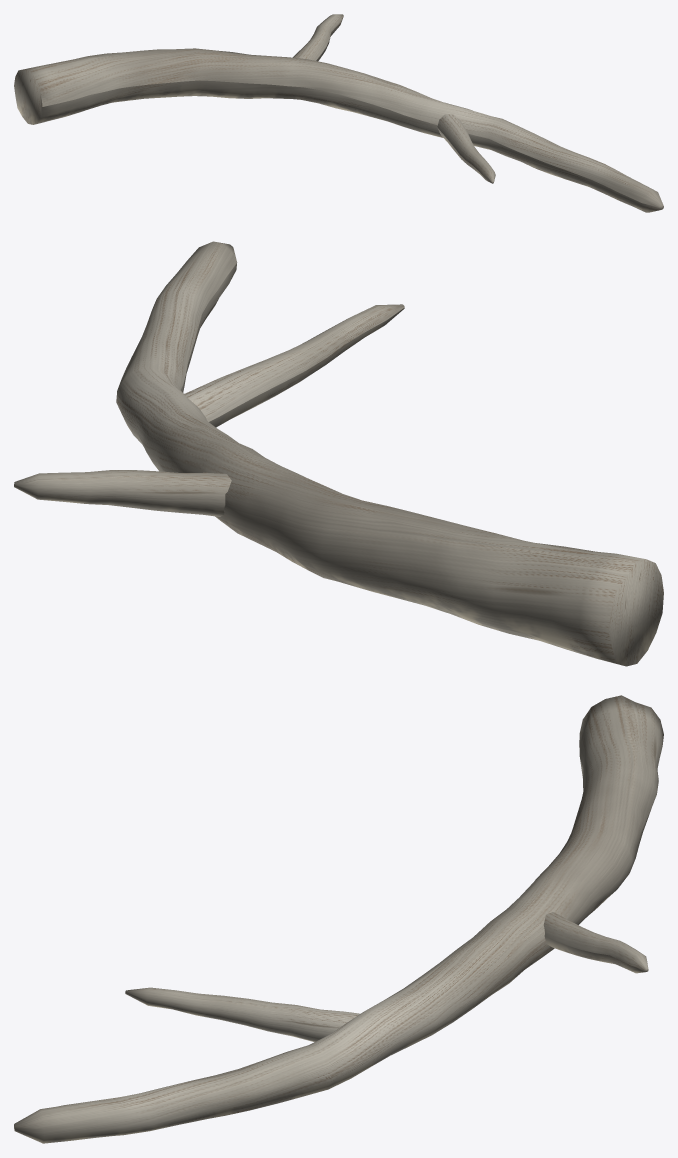
The model's file is Driftwood_A.gltf.
3 renders of one model, top to bottom at view 1: azimuth 30°, elevation 25°; view 2: azimuth 150°, elevation 25°; view 3: azimuth 270°, elevation 25°, orthographic. The views are drawn at different scales.
Visible parts, largest first — view 1: Driftwood_A; view 2: Driftwood_A; view 3: Driftwood_A.
Boxes of the visible parts, box(x1,y1,x2,y2) form: Driftwood_A: box(14, 14, 663, 212); Driftwood_A: box(14, 241, 663, 666); Driftwood_A: box(14, 695, 663, 1143).
Bounding box in the file's own units: 1.53 × 0.3393 × 1.36.
Materials: 1 (1 with a texture image).
